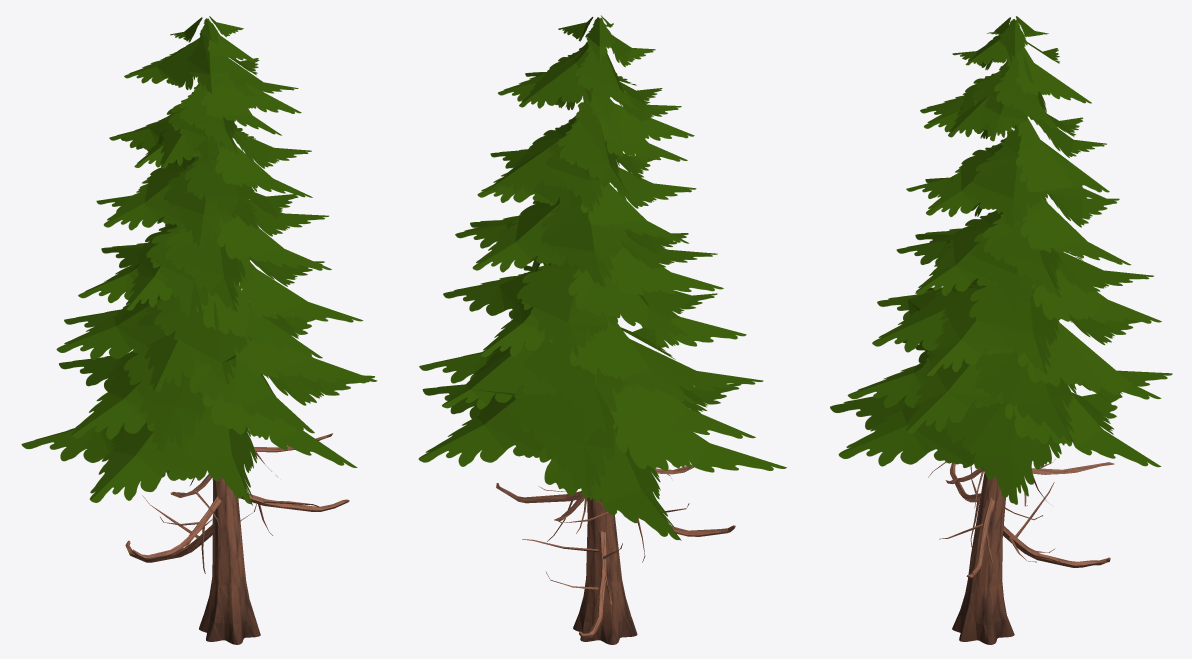
The model's file is pine.glb.
The picture shows the model from 3 angles, left to right: view 1: azimuth 30°, elevation 25°; view 2: azimuth 150°, elevation 25°; view 3: azimuth 270°, elevation 25°; orthographic projection. The views are drawn at different scales.
Visible parts, largest first — view 1: Pine_4; view 2: Pine_4; view 3: Pine_4.
Part boxes in pixels (box(x1,y1,x2,y2)): Pine_4: box(21, 16, 377, 644); Pine_4: box(418, 15, 786, 644); Pine_4: box(830, 16, 1172, 644).
Size of the model in its own units: 5.8 by 10.24 by 5.37.
Materials: 2 (2 with a texture image).
